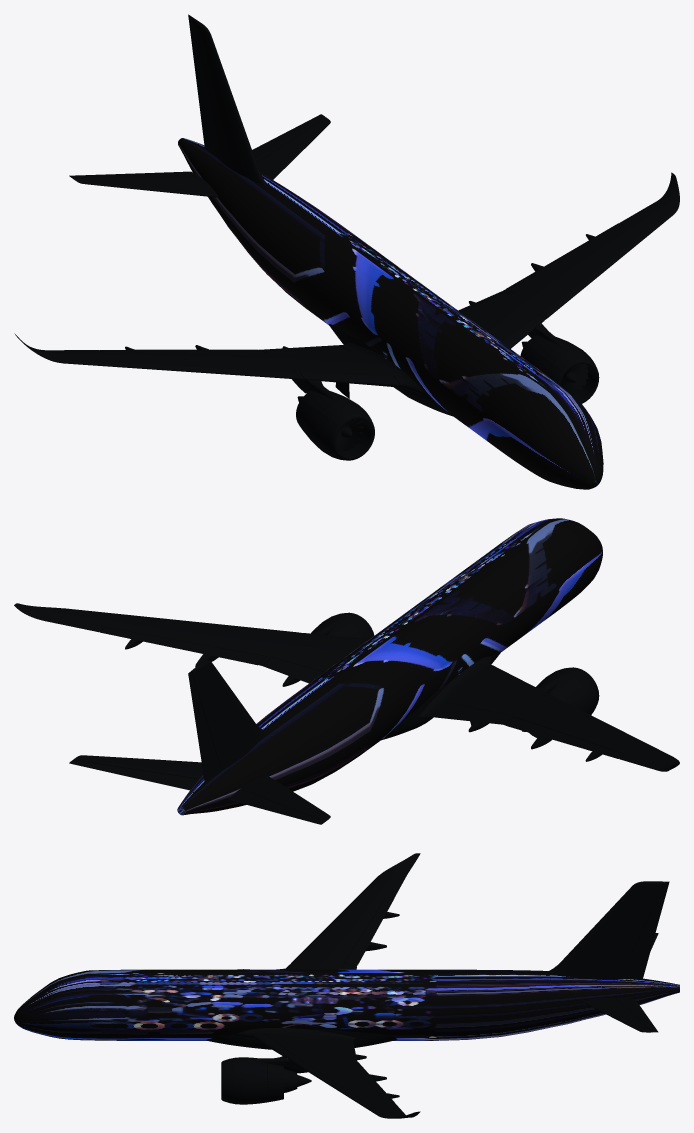
The picture shows the model from 3 angles, top to bottom: view 1: azimuth 30°, elevation 25°; view 2: azimuth 150°, elevation 25°; view 3: azimuth 270°, elevation 25°; orthographic projection. The views are drawn at different scales.
Parts seen in each view (by area): view 1: 柱体; view 2: 柱体; view 3: 柱体.
Boxes of the visible parts, x1,y1,x2,y2 form: 柱体: (14, 14, 679, 489); 柱体: (14, 518, 679, 824); 柱体: (14, 853, 679, 1118).
Bounding box in the file's own units: 421 × 134 × 458.
1 material, 1 textured.
